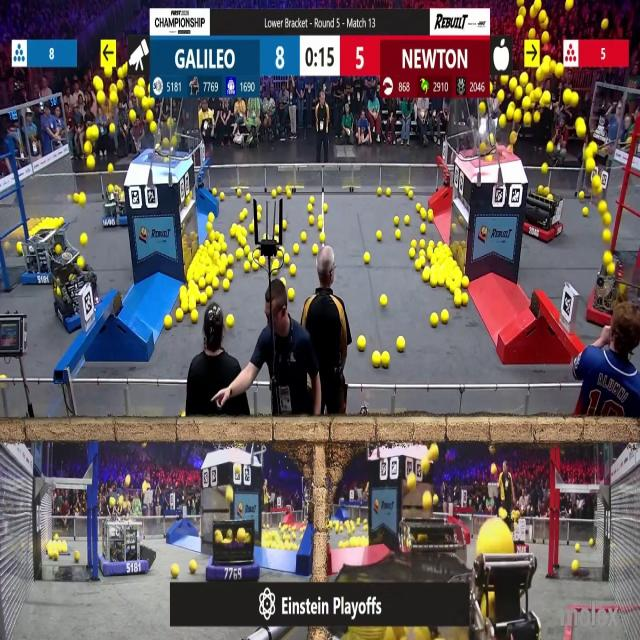ball_airborne: (575, 120, 586, 139), (422, 492, 432, 509), (428, 445, 438, 462), (88, 126, 100, 140), (540, 58, 550, 73), (408, 475, 417, 491), (109, 92, 118, 106), (555, 64, 564, 78), (421, 459, 430, 473), (225, 487, 233, 502), (540, 92, 549, 105), (479, 141, 488, 154), (98, 92, 106, 106), (564, 91, 572, 105), (94, 76, 102, 90), (570, 92, 578, 106), (84, 142, 92, 156), (538, 10, 545, 25), (88, 157, 96, 170), (515, 109, 523, 122), (592, 176, 600, 189), (524, 56, 532, 69), (136, 88, 146, 98), (506, 104, 513, 118), (516, 87, 524, 99), (588, 160, 596, 172), (524, 112, 532, 124), (498, 114, 506, 126), (510, 76, 518, 88), (590, 143, 598, 155), (604, 251, 612, 263), (116, 66, 124, 78), (515, 15, 522, 28), (565, 0, 573, 11), (104, 67, 112, 78), (525, 85, 533, 96), (606, 265, 614, 276), (498, 510, 506, 521), (521, 73, 528, 85), (523, 97, 530, 109), (603, 231, 610, 243), (541, 32, 548, 44), (599, 202, 606, 214), (534, 0, 542, 10), (80, 234, 86, 247), (146, 110, 153, 121), (149, 121, 156, 132), (535, 69, 542, 80), (480, 103, 487, 114), (533, 112, 540, 123), (142, 98, 149, 109), (116, 79, 123, 90), (534, 90, 541, 101), (498, 91, 504, 103), (138, 78, 146, 87), (604, 213, 610, 225), (79, 192, 85, 204), (511, 132, 517, 144), (109, 125, 116, 135), (131, 110, 137, 121), (546, 141, 552, 152), (541, 164, 547, 175), (164, 138, 171, 147), (530, 29, 536, 39), (492, 464, 498, 474), (171, 138, 177, 148), (431, 494, 437, 504), (108, 164, 114, 174), (110, 496, 116, 506), (147, 95, 153, 105), (520, 7, 526, 16), (500, 492, 506, 501), (530, 7, 535, 17), (118, 495, 124, 503), (518, 0, 524, 8), (168, 118, 173, 127), (489, 135, 495, 142), (507, 145, 512, 153), (488, 154, 492, 161)
ball_ground: (396, 338, 404, 352), (374, 352, 382, 366), (382, 352, 389, 367), (430, 314, 438, 327), (357, 338, 365, 351), (172, 564, 180, 577), (226, 314, 233, 328), (189, 560, 196, 574), (571, 560, 578, 574), (189, 311, 197, 323), (461, 277, 469, 289), (454, 294, 462, 306), (218, 264, 226, 276), (447, 280, 455, 292), (165, 316, 172, 329), (380, 294, 388, 305), (443, 311, 450, 323), (287, 288, 294, 300), (461, 293, 468, 305), (222, 280, 229, 292), (176, 310, 183, 322), (422, 270, 429, 282), (415, 260, 422, 272), (237, 248, 244, 260), (426, 247, 434, 257), (289, 266, 296, 277), (363, 252, 370, 263), (244, 263, 251, 274), (410, 248, 417, 259), (225, 270, 232, 281), (212, 278, 219, 289), (199, 278, 206, 289), (429, 276, 436, 287), (420, 209, 427, 220), (181, 301, 188, 312), (77, 256, 83, 268), (273, 262, 280, 272), (188, 301, 195, 311), (437, 278, 444, 288), (284, 253, 290, 264), (227, 253, 233, 264), (292, 242, 298, 253), (201, 293, 207, 304), (229, 226, 235, 237), (420, 223, 427, 232), (220, 243, 227, 252), (395, 231, 401, 241), (313, 244, 319, 254), (258, 255, 264, 265), (299, 233, 305, 243), (428, 210, 433, 222), (207, 286, 213, 296), (186, 272, 192, 282), (244, 246, 250, 256), (317, 220, 323, 230), (240, 237, 246, 247), (73, 192, 79, 202), (62, 542, 68, 552), (253, 249, 260, 257), (180, 285, 187, 293), (16, 243, 21, 254), (252, 263, 258, 272), (309, 215, 315, 224), (322, 204, 328, 213), (210, 233, 216, 242), (320, 234, 325, 244), (403, 216, 409, 224), (412, 240, 418, 248), (420, 240, 426, 248), (578, 191, 584, 199), (420, 249, 426, 257), (286, 190, 292, 198), (237, 188, 243, 196), (428, 240, 434, 248), (420, 260, 426, 268), (394, 216, 399, 225), (75, 553, 80, 562), (309, 204, 314, 213), (584, 208, 589, 217), (209, 213, 214, 222), (275, 224, 280, 233), (282, 220, 287, 229), (240, 212, 245, 221), (276, 250, 282, 257), (340, 540, 346, 547), (108, 184, 114, 191), (212, 188, 218, 195), (219, 191, 224, 199), (416, 204, 421, 212), (574, 543, 579, 551), (256, 213, 261, 221), (272, 189, 277, 197), (308, 197, 313, 205), (589, 538, 594, 546), (207, 222, 212, 230), (378, 232, 382, 241), (250, 223, 254, 232), (180, 413, 186, 419), (386, 188, 391, 195), (410, 190, 414, 198), (378, 187, 382, 195), (244, 196, 248, 203), (257, 205, 261, 212), (282, 278, 286, 285), (0, 375, 4, 381)
goal: (466, 123, 522, 161), (128, 132, 188, 160)
robot_blue: (22, 215, 75, 286), (52, 263, 101, 332), (210, 522, 259, 582), (101, 522, 152, 576), (99, 186, 128, 228)
robot_red: (587, 274, 633, 328), (488, 502, 530, 560), (522, 186, 562, 244)
